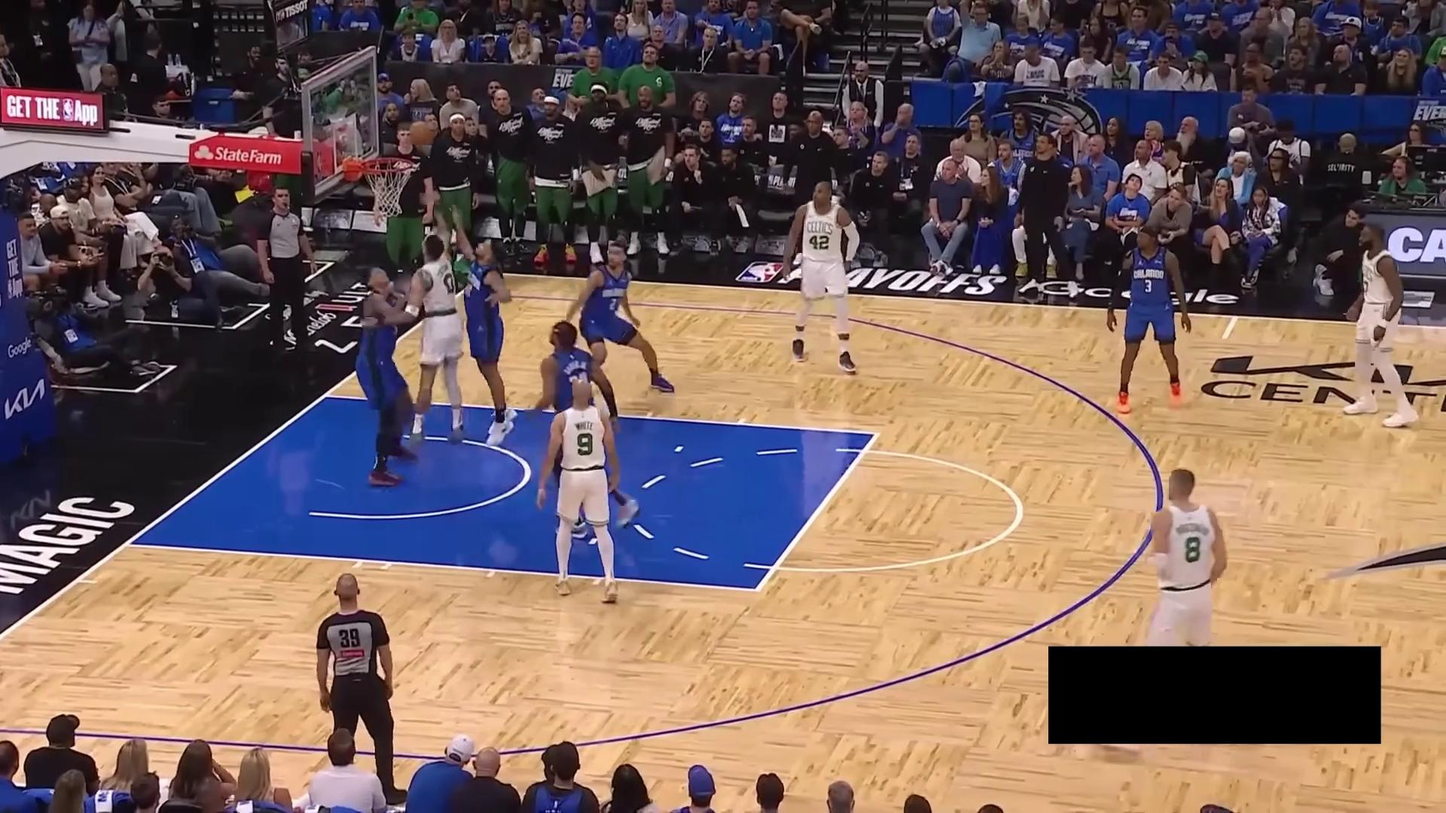ball: (410, 120, 434, 146)
number: (574, 430, 595, 458), (1183, 536, 1202, 565), (809, 235, 830, 250), (441, 273, 454, 294), (1144, 279, 1153, 294)
player: (1105, 463, 1229, 763), (355, 204, 476, 448), (529, 318, 646, 539), (1334, 216, 1425, 429), (560, 235, 678, 399), (537, 377, 620, 605), (344, 261, 424, 489), (1104, 223, 1193, 415), (781, 172, 862, 375)
player-shot-block: (444, 200, 521, 449)
referee: (310, 571, 417, 808), (247, 182, 328, 363)
rim: (358, 157, 413, 178)
